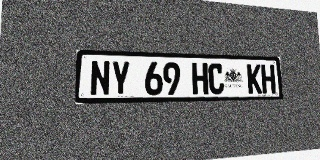6: (145, 61, 163, 95)
9: (163, 62, 180, 95)
C: (208, 63, 224, 94)
H: (192, 63, 208, 95), (261, 64, 276, 94)
K: (247, 64, 262, 94)
N: (90, 60, 110, 96)
Y: (111, 61, 130, 96)
